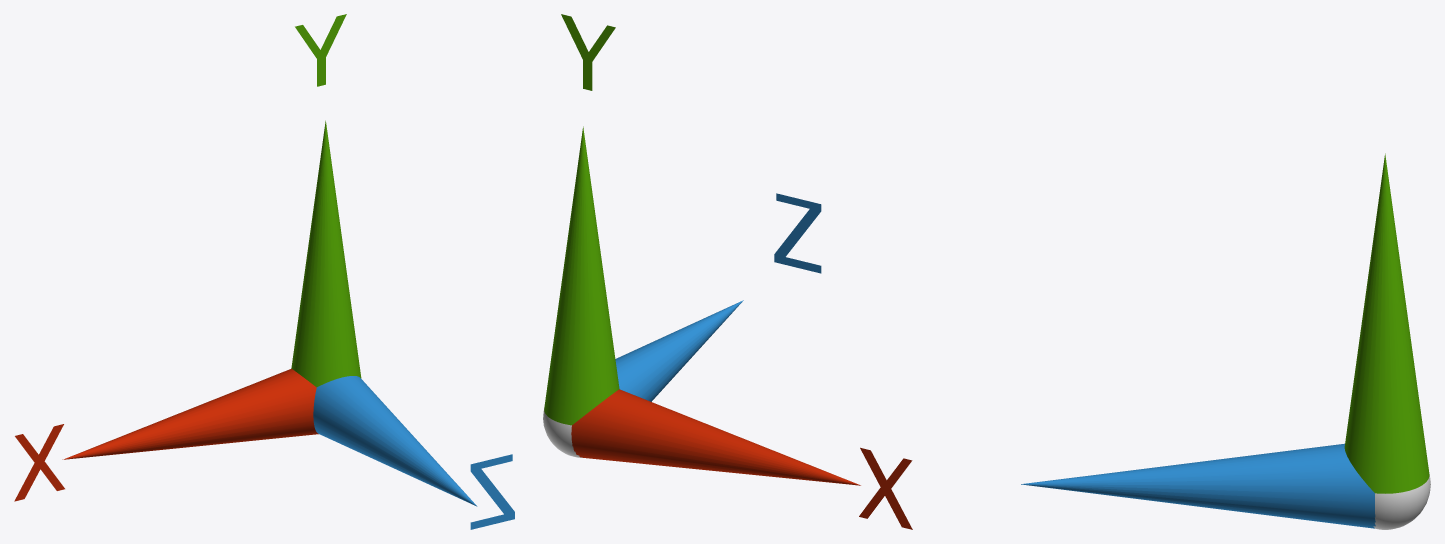
The model's file is CC_AXIS_MODEL.fbx.
3 views of the same model, side by side, from view 1: azimuth 30°, elevation 25°; view 2: azimuth 150°, elevation 25°; view 3: azimuth 270°, elevation 25° (orthographic). The views are drawn at different scales.
Parts seen in each view (by area): view 1: Cone.2, Cone.1, Cone, Polyplane, Polyplane.2, Polyplane.1; view 2: Cone.2, Cone.1, Cone, Polyplane, Polyplane.2, Polyplane.1, Ball; view 3: Cone.2, Cone, Ball.
Boxes of the visible parts, x1=… form: Cone.2: x1=291, y1=120, x2=361, y2=387; Cone.1: x1=62, y1=368, x2=318, y2=459; Cone: x1=313, y1=376, x2=477, y2=506; Polyplane: x1=14, y1=424, x2=64, y2=501; Polyplane.2: x1=470, y1=454, x2=514, y2=529; Polyplane.1: x1=295, y1=14, x2=346, y2=86; Cone.2: x1=544, y1=126, x2=619, y2=425; Cone.1: x1=571, y1=389, x2=860, y2=485; Cone: x1=615, y1=300, x2=743, y2=401; Polyplane: x1=859, y1=447, x2=912, y2=529; Polyplane.2: x1=774, y1=193, x2=821, y2=273; Polyplane.1: x1=561, y1=14, x2=615, y2=90; Ball: x1=543, y1=408, x2=582, y2=457; Cone.2: x1=1344, y1=153, x2=1429, y2=493; Cone: x1=1021, y1=443, x2=1375, y2=528; Ball: x1=1373, y1=475, x2=1430, y2=529.
Bounding box in the file's own units: 19.87 × 22.65 × 20.37.
